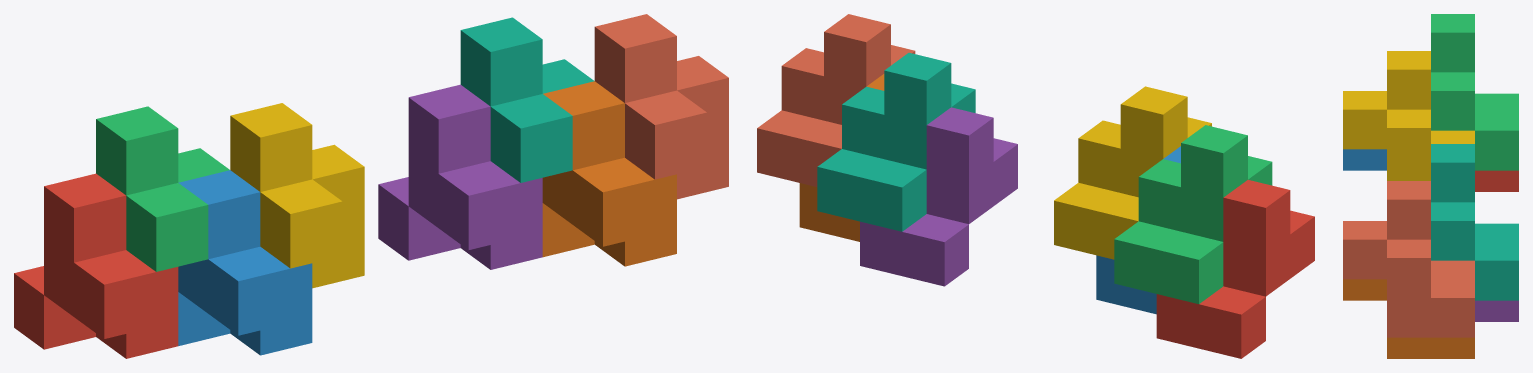
Rendered from tiling.obj.
The picture shows the model from 3 angles, left to right: view 1: azimuth 30°, elevation 25°; view 2: azimuth 150°, elevation 25°; view 3: azimuth 270°, elevation 25°; orthographic projection. The views are drawn at different scales.
Visible parts, largest first — view 1: copy_1_domain_5, copy_1_domain_1, copy_1_domain_4, copy_1_domain_8, copy_1_domain_6, copy_1_domain_2, copy_1_domain_7, copy_1_domain_3; view 2: copy_1_domain_3, copy_1_domain_7, copy_1_domain_1, copy_1_domain_5, copy_1_domain_4, copy_1_domain_8, copy_1_domain_6, copy_1_domain_2; view 3: copy_1_domain_8, copy_1_domain_4, copy_1_domain_3, copy_1_domain_7, copy_1_domain_6, copy_1_domain_1, copy_1_domain_2, copy_1_domain_5.
Boxes of the visible parts, left/top/right/bottom form: copy_1_domain_5: left=378, top=84, right=542, bottom=269; copy_1_domain_1: left=14, top=173, right=178, bottom=358; copy_1_domain_4: left=230, top=103, right=364, bottom=288; copy_1_domain_8: left=594, top=14, right=728, bottom=199; copy_1_domain_6: left=542, top=81, right=676, bottom=266; copy_1_domain_2: left=178, top=170, right=312, bottom=355; copy_1_domain_7: left=460, top=17, right=594, bottom=182; copy_1_domain_3: left=96, top=106, right=229, bottom=271; copy_1_domain_3: left=1114, top=125, right=1272, bottom=303; copy_1_domain_7: left=817, top=52, right=975, bottom=231; copy_1_domain_1: left=1156, top=180, right=1314, bottom=358; copy_1_domain_5: left=860, top=107, right=1017, bottom=286; copy_1_domain_4: left=1054, top=86, right=1211, bottom=259; copy_1_domain_8: left=757, top=14, right=915, bottom=186; copy_1_domain_6: left=799, top=74, right=884, bottom=241; copy_1_domain_2: left=1096, top=146, right=1180, bottom=314; copy_1_domain_8: left=1343, top=181, right=1474, bottom=337; copy_1_domain_4: left=1343, top=51, right=1474, bottom=180; copy_1_domain_3: left=1431, top=14, right=1518, bottom=170; copy_1_domain_7: left=1431, top=144, right=1518, bottom=300; copy_1_domain_6: left=1343, top=279, right=1474, bottom=358; copy_1_domain_1: left=1475, top=170, right=1518, bottom=191; copy_1_domain_2: left=1343, top=149, right=1386, bottom=170; copy_1_domain_5: left=1475, top=300, right=1518, bottom=321.
Size of the model in its own units: 12 by 4 by 4.
